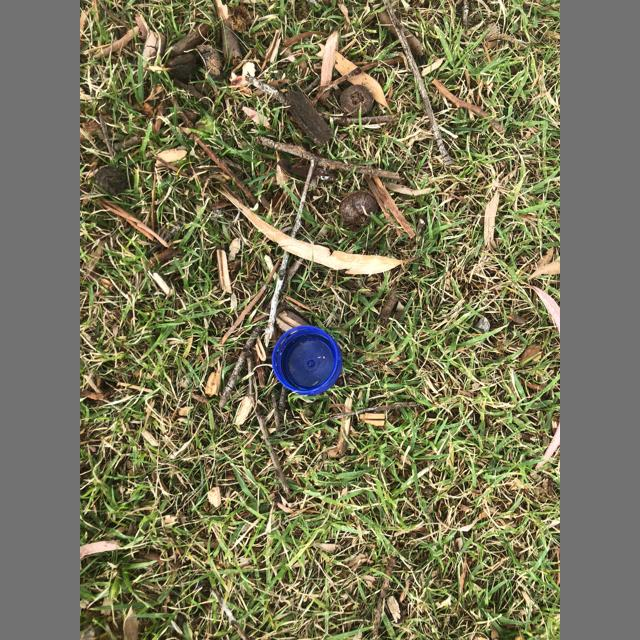litter: (271, 325, 343, 395)
